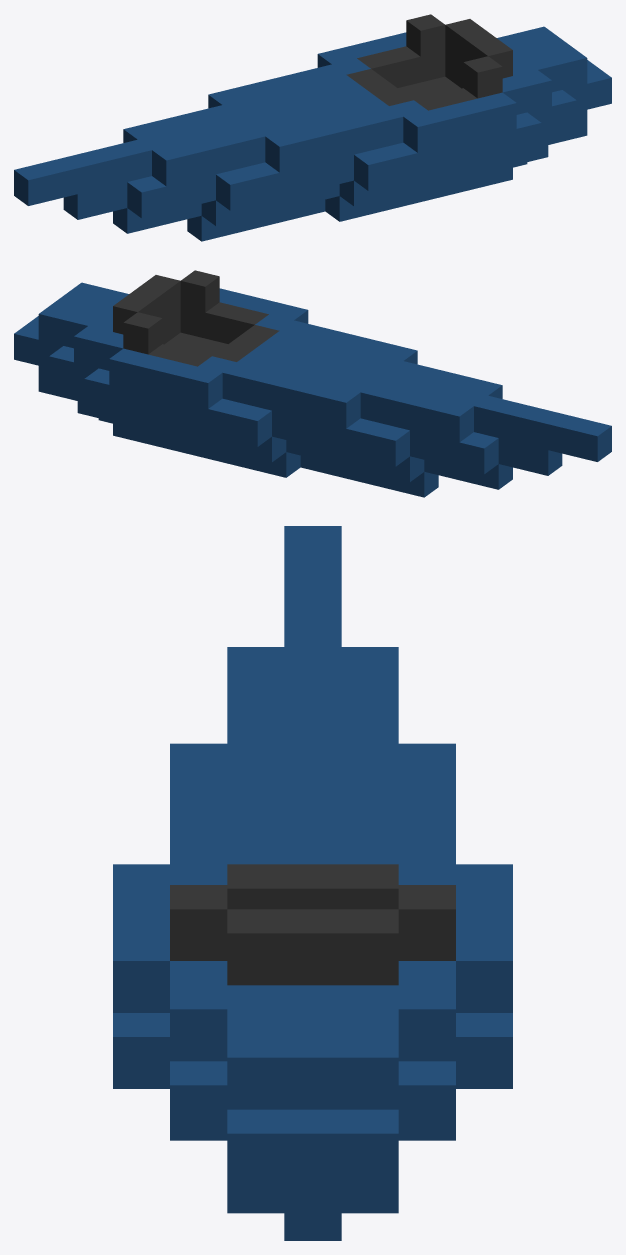
File: canoe 2.obj
3 views of the same model, one above another, from view 1: azimuth 30°, elevation 25°; view 2: azimuth 150°, elevation 25°; view 3: azimuth 270°, elevation 25° (orthographic). The views are drawn at different scales.
Bounding box in the file's own units: 2.3 × 0.5 × 0.7.
1 material, 1 textured.
